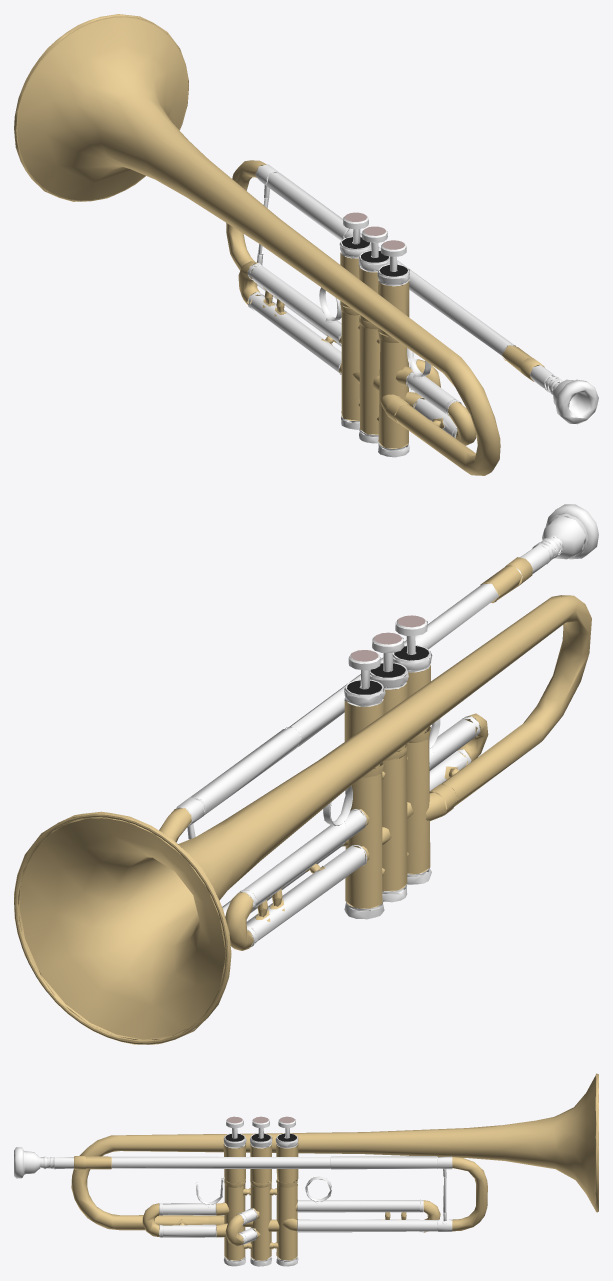
File: trumpet.glb
The picture shows the model from 3 angles, top to bottom: view 1: azimuth 30°, elevation 25°; view 2: azimuth 150°, elevation 25°; view 3: azimuth 270°, elevation 25°; orthographic projection. The views are drawn at different scales.
Visible parts, largest first — view 1: trumpet; view 2: trumpet; view 3: trumpet.
Part boxes in pixels (bbox=[...]): trumpet: bbox=[14, 14, 598, 475]; trumpet: bbox=[14, 504, 598, 1044]; trumpet: bbox=[14, 1073, 598, 1266].
Bounding box in the file's own units: 0.1675 × 0.2301 × 0.7066.
